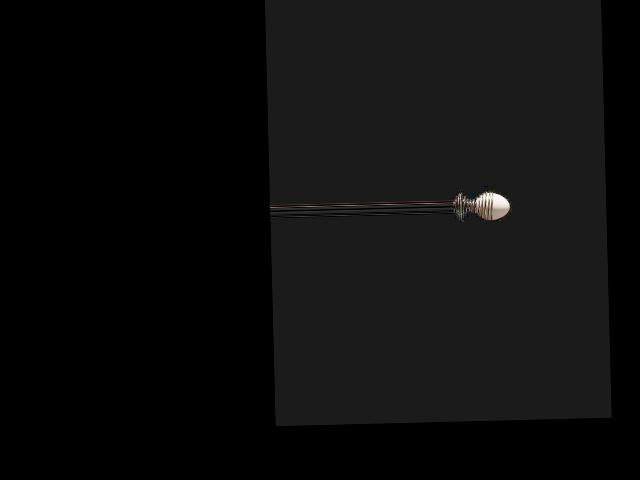egg: (475, 192, 510, 219)
